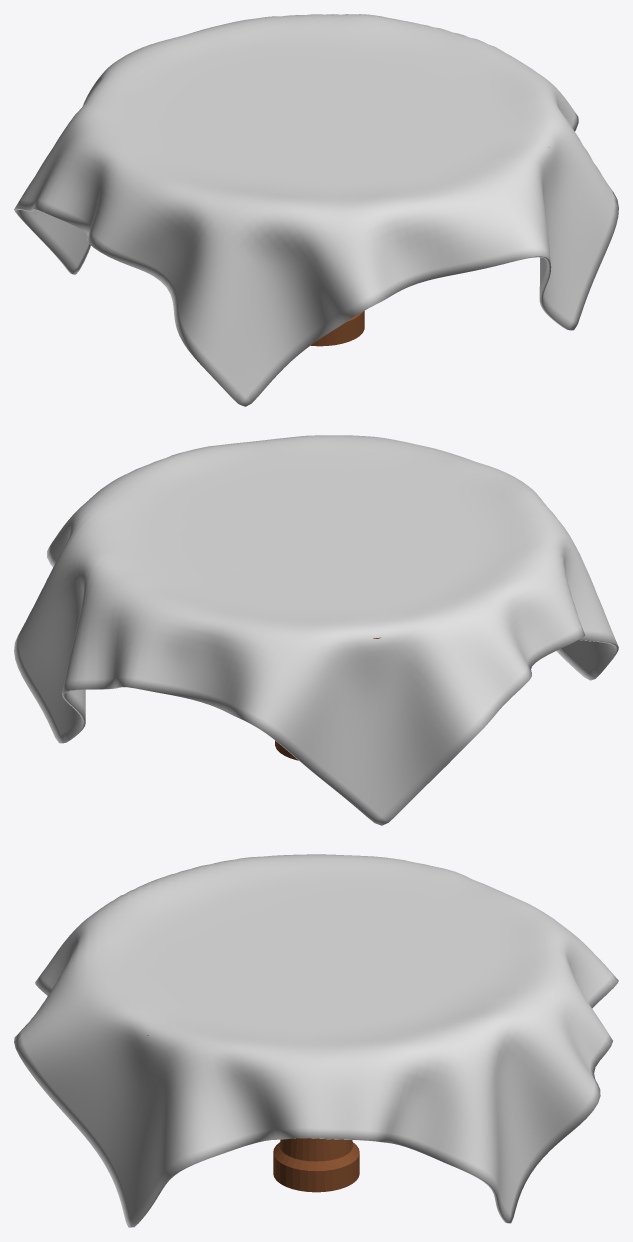
File: MESA.fbx
3 views of the same model, one above another, from view 1: azimuth 30°, elevation 25°; view 2: azimuth 150°, elevation 25°; view 3: azimuth 270°, elevation 25° (orthographic). The views are drawn at different scales.
Parts seen in each view (by area): view 1: Plane, Cylinder.001; view 2: Plane; view 3: Plane, Cylinder.001.
Boxes of the visible parts, x1,y1,x2,y2 form: Plane: [14, 14, 618, 406]; Cylinder.001: [311, 311, 364, 346]; Plane: [14, 435, 618, 825]; Plane: [14, 854, 618, 1227]; Cylinder.001: [273, 1138, 359, 1192].
Bounding box in the file's own units: 814 × 339 × 834.
